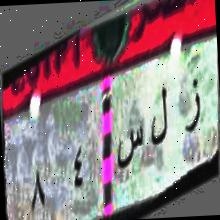4: (70, 142, 88, 196)
8: (25, 164, 48, 215)
laam: (147, 80, 171, 152)
seen: (115, 116, 146, 174)
zay: (181, 68, 205, 140)
